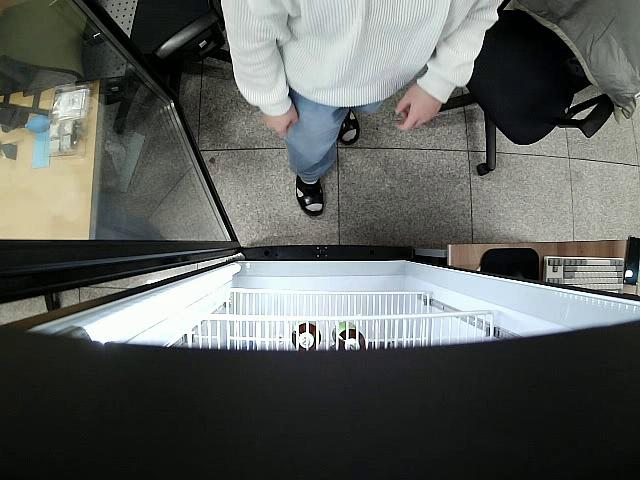00_hand: (392, 86, 442, 130), (263, 105, 299, 139)
